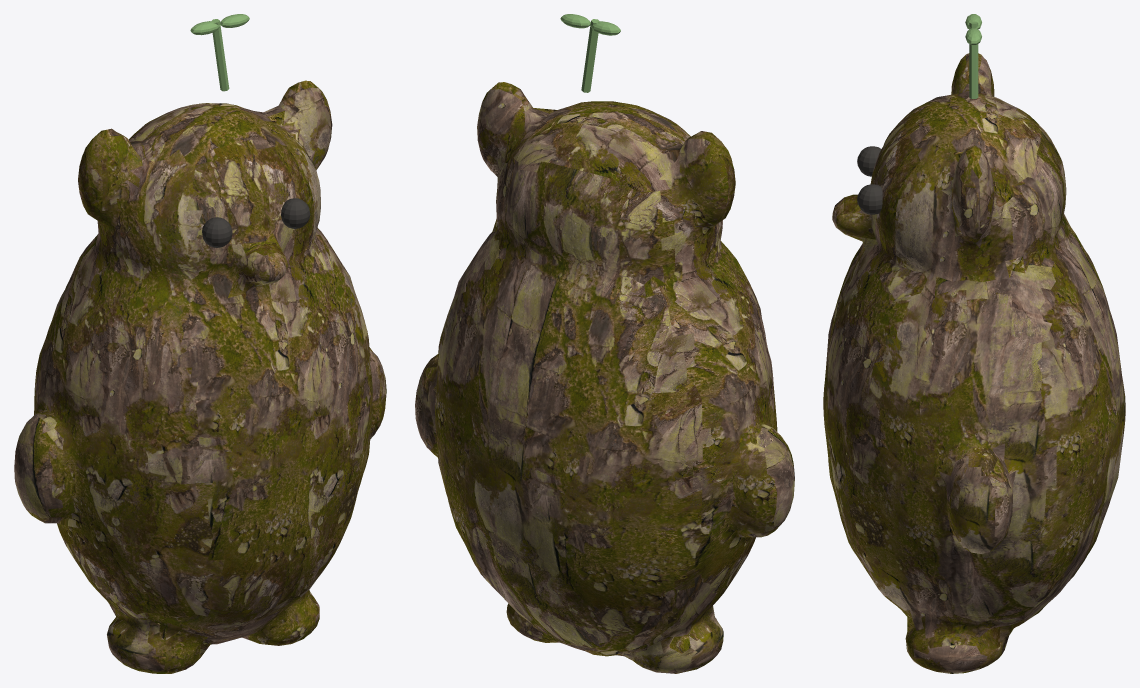
File: troll.glb
The picture shows the model from 3 angles, left to right: view 1: azimuth 30°, elevation 25°; view 2: azimuth 150°, elevation 25°; view 3: azimuth 270°, elevation 25°; orthographic projection.
Parts seen in each view (by area): view 1: troll, eye-1, eye1, Cylinder; view 2: troll, Cylinder; view 3: troll, eye1, Cylinder, eye-1.
Boxes of the visible parts, bbox=[...] form: troll: bbox=[14, 80, 386, 673]; eye-1: bbox=[202, 217, 232, 247]; eye1: bbox=[281, 198, 310, 228]; Cylinder: bbox=[211, 19, 229, 91]; troll: bbox=[415, 82, 794, 673]; Cylinder: bbox=[581, 19, 599, 92]; troll: bbox=[823, 53, 1125, 673]; eye1: bbox=[857, 184, 882, 214]; Cylinder: bbox=[969, 21, 978, 98]; eye-1: bbox=[857, 146, 881, 176].
Size of the model in its own units: 1.49 by 2.45 by 1.08.
Materials: 3 (1 with a texture image).
